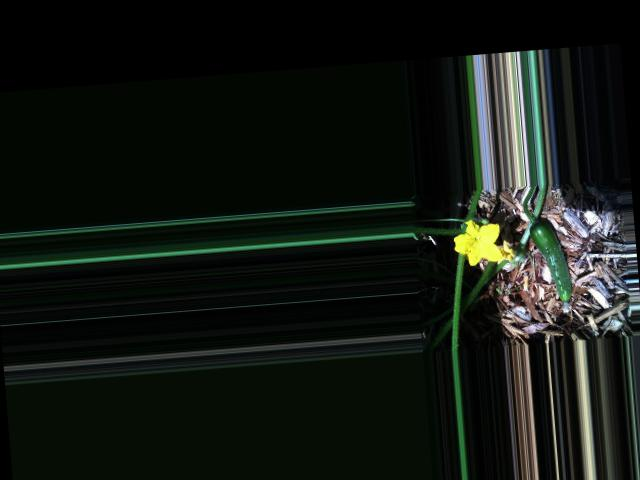cucumber: (528, 217, 574, 312)
